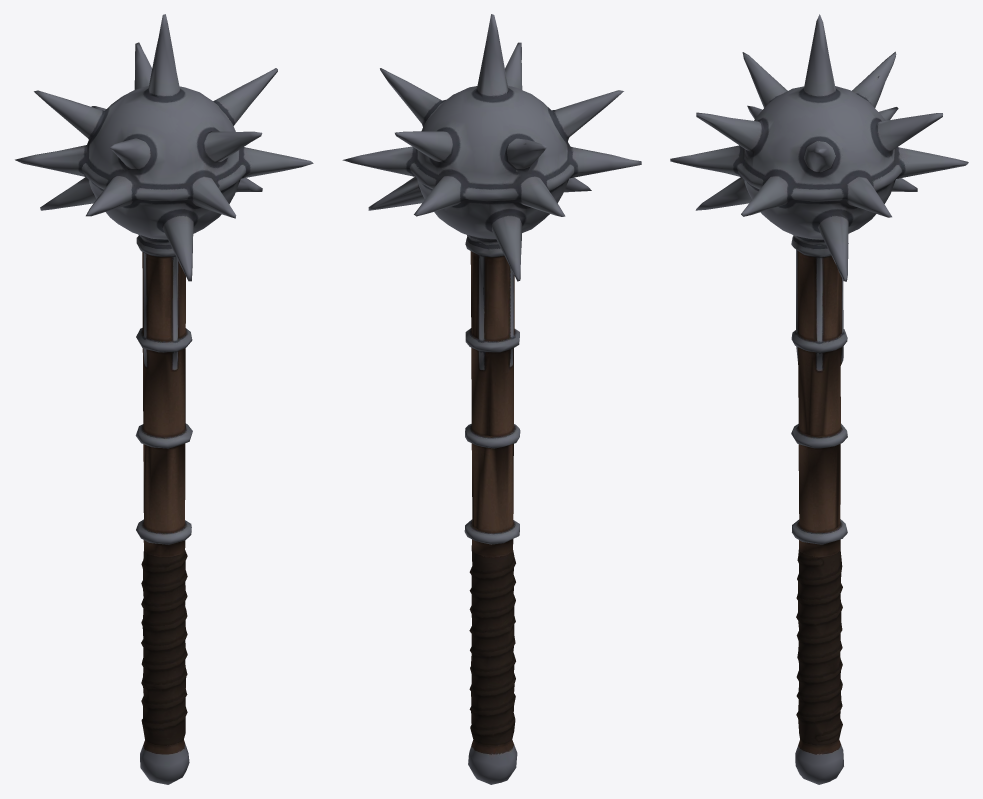
The model's file is weapon_mace_spiked.glb.
3 renders of one model, left to right at view 1: azimuth 30°, elevation 25°; view 2: azimuth 150°, elevation 25°; view 3: azimuth 270°, elevation 25°, orthographic.
Visible parts, largest first — view 1: weapon_mace_spiked; view 2: weapon_mace_spiked; view 3: weapon_mace_spiked.
Part boxes in pixels (box(x1,y1,x2,y2)): weapon_mace_spiked: box(15, 14, 313, 784); weapon_mace_spiked: box(342, 14, 641, 784); weapon_mace_spiked: box(670, 14, 968, 784).
Size of the model in its own units: 0.2983 by 0.9606 by 0.3387.
1 material, 1 textured.
